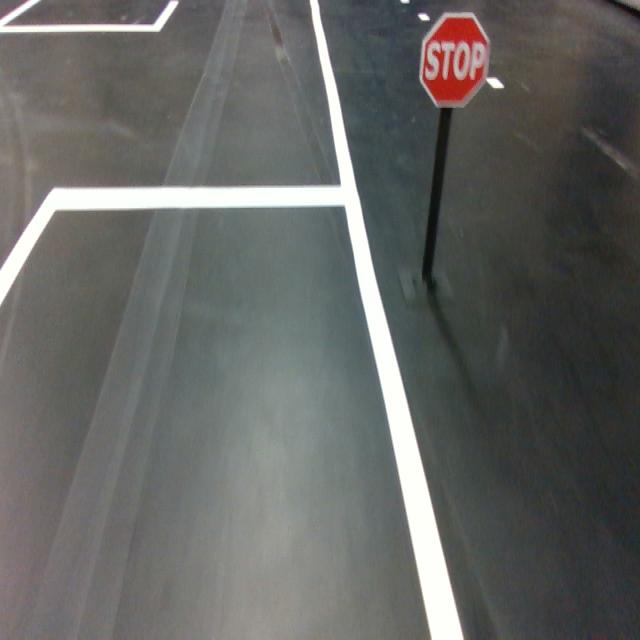stop-sign: (418, 11, 491, 109)
